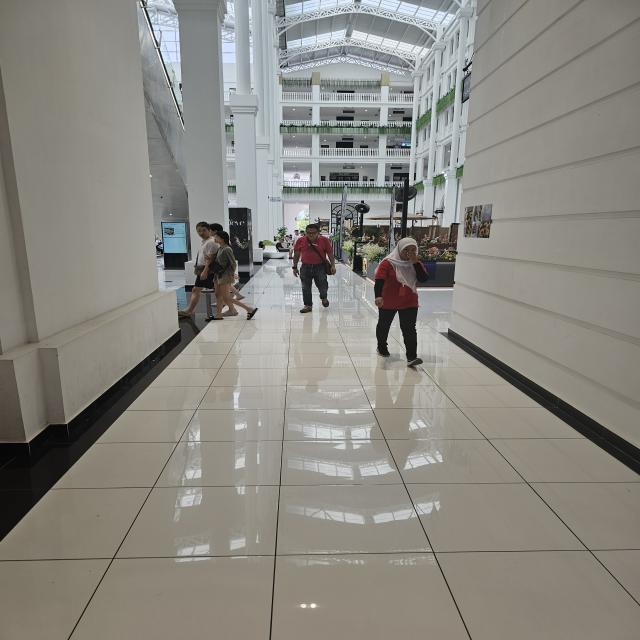footpath: (97, 362, 614, 638)
person: (373, 236, 429, 366), (204, 230, 258, 320), (292, 223, 336, 313)
wall: (0, 0, 182, 447)
